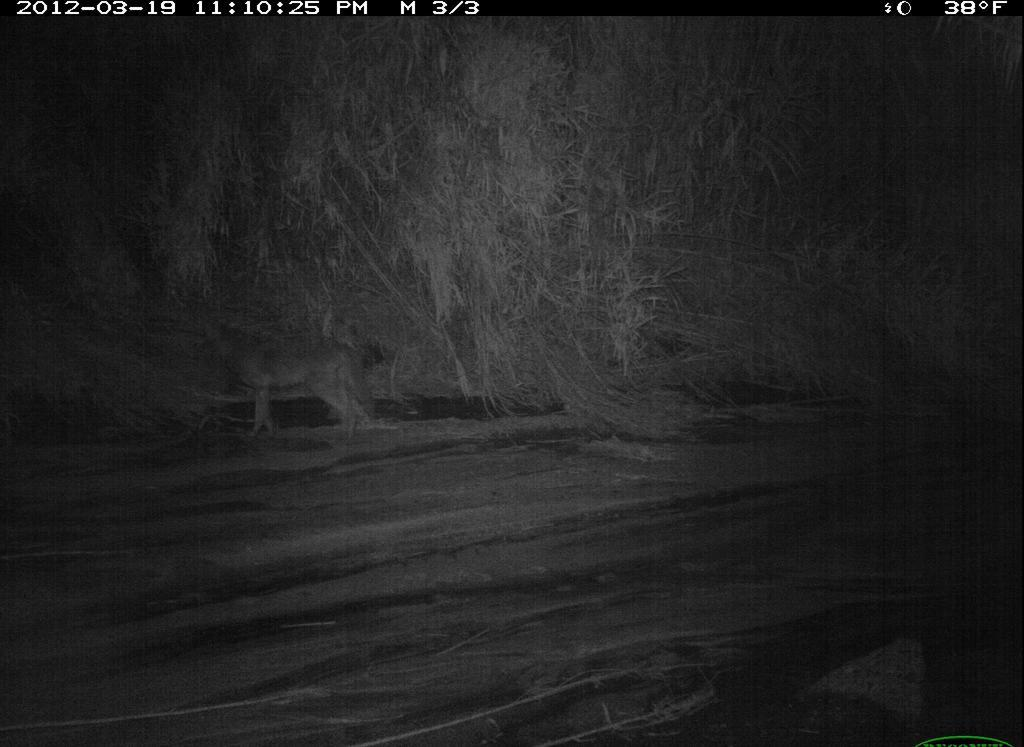coyote: (195, 310, 390, 449)
